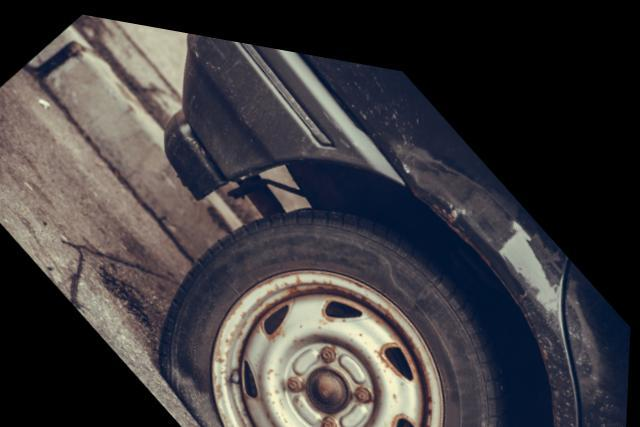tire flat: (160, 197, 515, 427)
